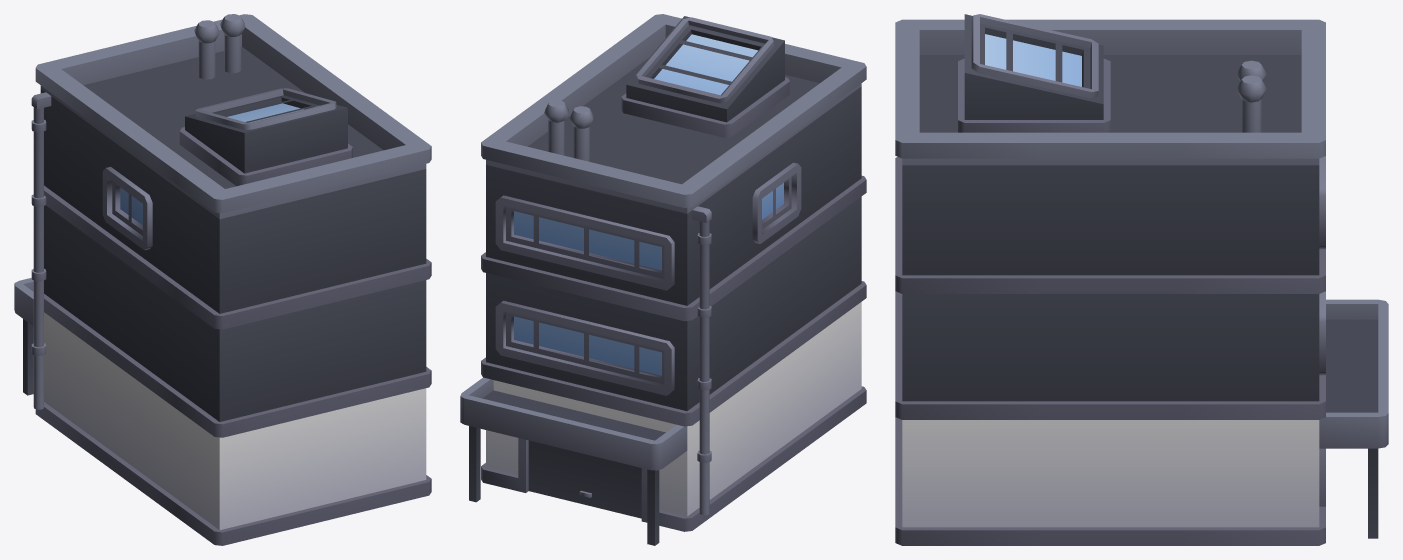
Rendered from building-d.glb.
The picture shows the model from 3 angles, left to right: view 1: azimuth 30°, elevation 25°; view 2: azimuth 150°, elevation 25°; view 3: azimuth 270°, elevation 25°; orthographic projection. The views are drawn at different scales.
Parts seen in each view (by area): view 1: building-d; view 2: building-d; view 3: building-d.
Boxes of the visible parts, x1=… form: building-d: x1=14, y1=14, x2=431, y2=545; building-d: x1=460, y1=14, x2=866, y2=545; building-d: x1=895, y1=14, x2=1388, y2=545.
Bounding box in the file's own units: 0.8836 × 1.41 × 1.42.
Materials: 2 (2 with a texture image).
